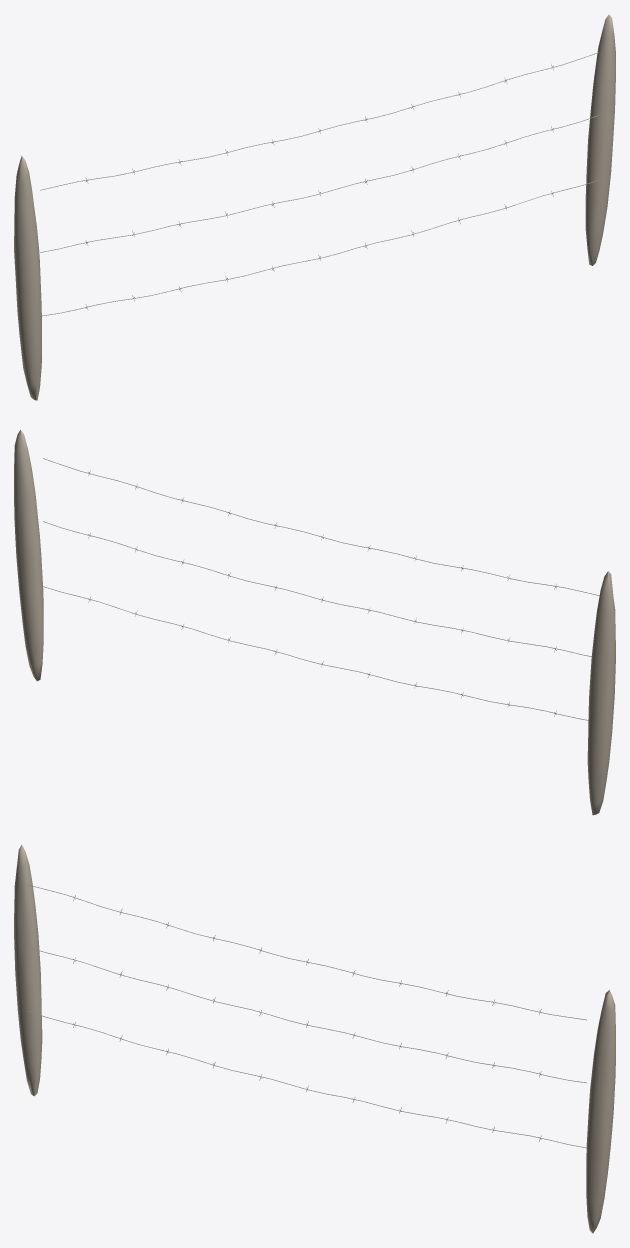
Rendered from fence_barbed_wire.glb.
3 renders of one model, top to bottom at view 1: azimuth 30°, elevation 25°; view 2: azimuth 150°, elevation 25°; view 3: azimuth 330°, elevation 25°, orthographic.
Visible parts, largest first — view 1: fence_barbed_wire; view 2: fence_barbed_wire; view 3: fence_barbed_wire.
Part boxes in pixels (<box>): fence_barbed_wire: <box>14,14,615,400</box>; fence_barbed_wire: <box>14,429,615,815</box>; fence_barbed_wire: <box>14,844,615,1233</box>.
Size of the model in its own units: 3.22 by 1.28 by 0.1269.
